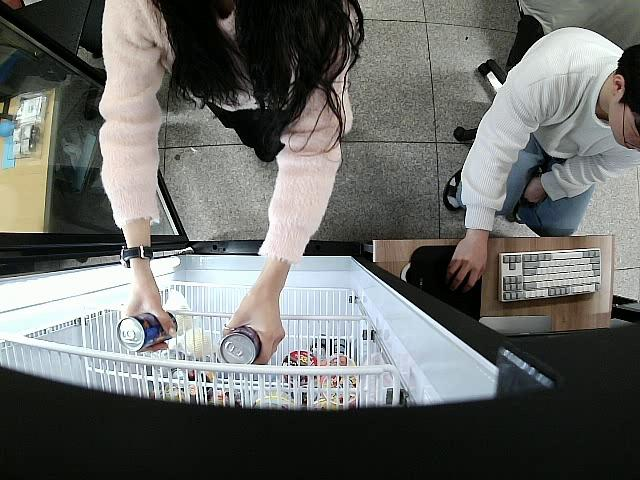00_hand: (223, 286, 282, 366), (121, 283, 174, 353), (450, 238, 489, 291)
16_hot6: (116, 311, 178, 351), (219, 326, 264, 366)
